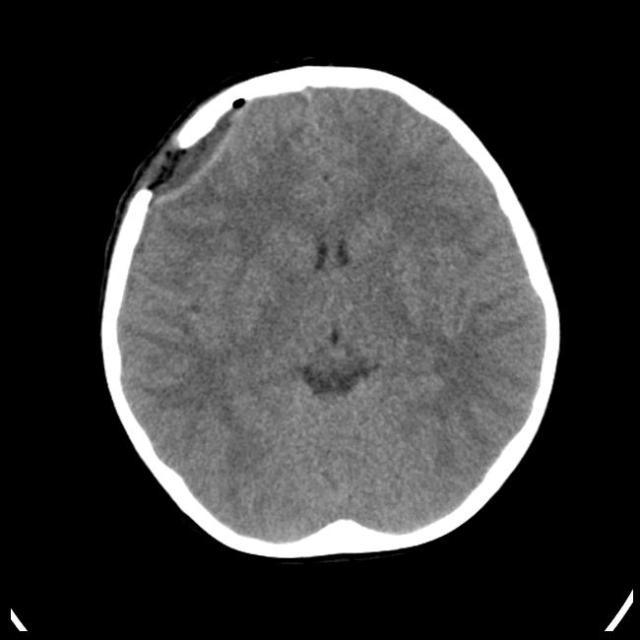lesion: (100, 67, 560, 558)
